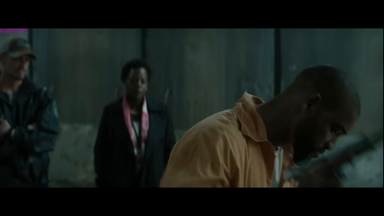firearm: (283, 125, 382, 189)
